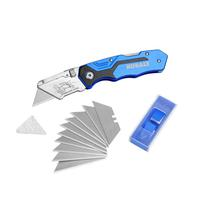knife: (27, 47, 178, 98)
